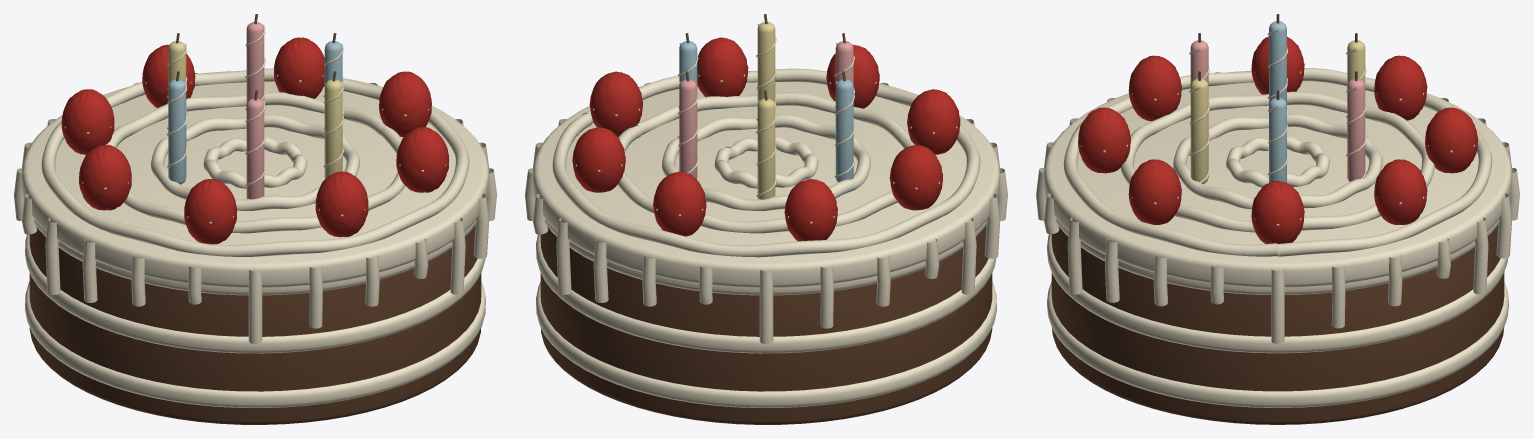
File: birthday-cake.glb
3 renders of one model, left to right at view 1: azimuth 30°, elevation 25°; view 2: azimuth 150°, elevation 25°; view 3: azimuth 270°, elevation 25°, orthographic.
Visible parts, largest first — view 1: Chocolate layers; view 2: Chocolate layers; view 3: Chocolate layers.
Boxes of the visible parts, bbox=[...] form: Chocolate layers: bbox=[14, 14, 496, 424]; Chocolate layers: bbox=[525, 14, 1007, 424]; Chocolate layers: bbox=[1036, 14, 1519, 424].
Bounding box in the file's own units: 0.6411 × 0.4083 × 0.6411.
